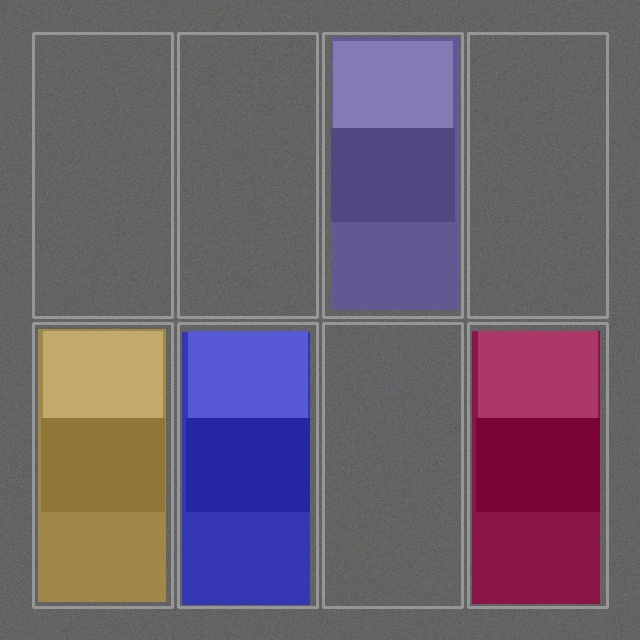space-empty: (35, 35, 170, 315), (180, 35, 315, 315), (470, 35, 605, 315), (325, 325, 460, 605)
space-occupied: (325, 35, 460, 315), (35, 325, 170, 605), (180, 325, 315, 605), (470, 325, 605, 605)
